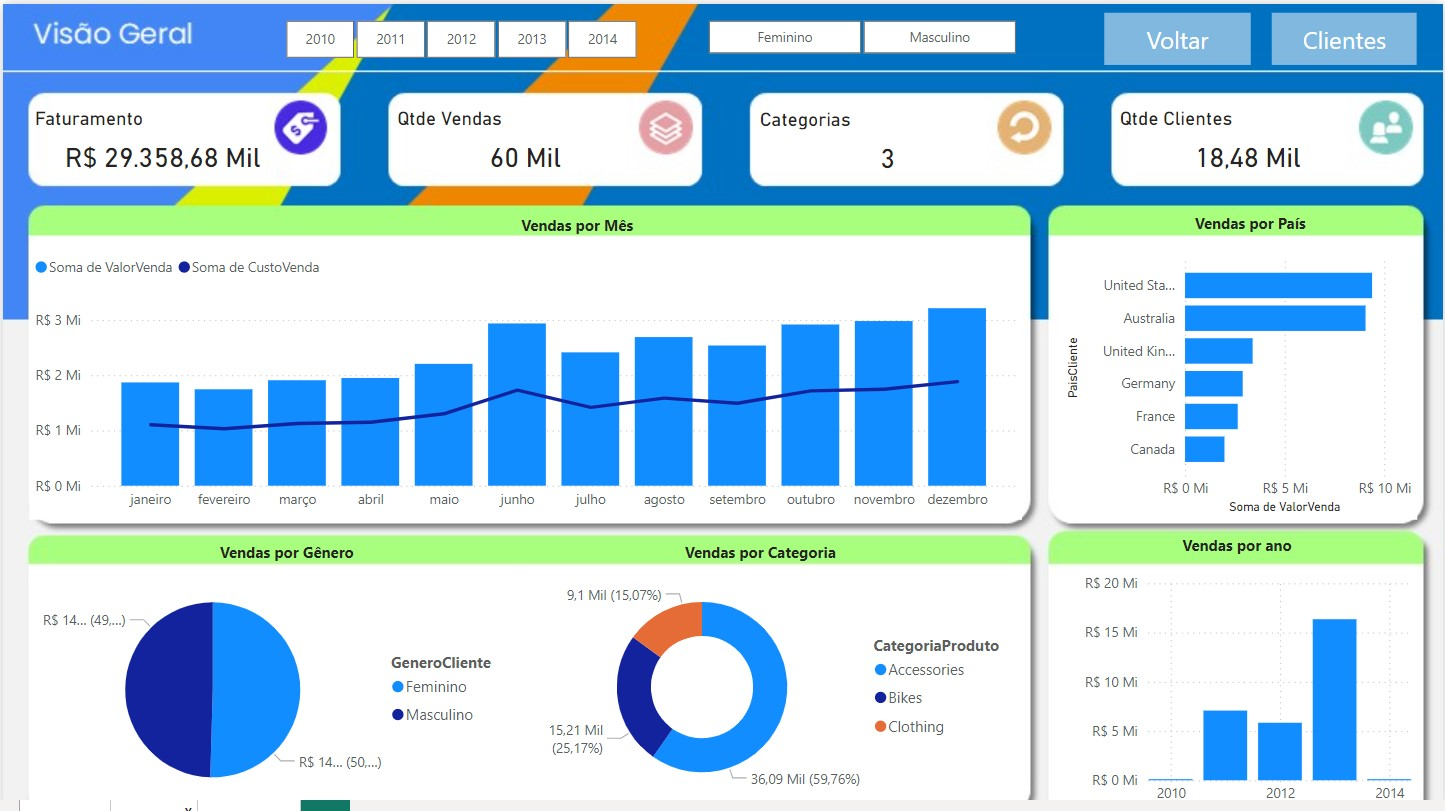

The page's visual inventory and layout, read from the dashboard file:
{"tool":"powerbi","page":{"name":"Geral","canvas":[1280,720],"ordinal":1},"visuals":[{"type":"lineClusteredColumnComboChart","fields":{"Y2":["Sum(vw_AnaliseVendas.CustoVenda)"],"Category":["vw_AnaliseVendas.DataPedido.Variation.Hierarquia de datas.Mês"],"Y":["Sum(vw_AnaliseVendas.ValorVenda)"]},"box":[23.3,214.8,882.5,243.9],"z":0},{"type":"pieChart","fields":{"Category":["vw_AnaliseVendas.GeneroCliente"],"Y":["Sum(vw_AnaliseVendas.ValorVenda)"]},"box":[23.3,500.5,432.5,219.7],"z":1000},{"type":"donutChart","fields":{"Category":["vw_AnaliseVendas.CategoriaProduto"],"Y":["CountNonNull(vw_AnaliseVendas.CategoriaProduto)"]},"box":[464.6,500.5,441.2,214.8],"z":2000},{"type":"clusteredColumnChart","fields":{"Category":["vw_AnaliseVendas.DataPedido.Variation.Hierarquia de datas.Ano"],"Y":["Sum(vw_AnaliseVendas.ValorVenda)"]},"box":[956.6,501,300.2,219.1],"z":3000},{"type":"barChart","fields":{"Category":["vw_AnaliseVendas.PaisCliente"],"Y":["Sum(vw_AnaliseVendas.ValorVenda)"]},"box":[940.8,214.8,315.9,243.9],"z":4000},{"type":"textbox","box":[455.8,181.7,165.2,41.8],"z":5000},{"type":"textbox","box":[188,473,177,42],"z":6000},{"type":"textbox","box":[601.6,473.3,173,41.8],"z":7000},{"type":"textbox","box":[1043.8,466.5,195.4,34],"z":8000},{"type":"textbox","box":[1054.1,181.5,138,41.5],"z":9000},{"type":"slicer","fields":{"Values":["vw_AnaliseVendas.DataPedido.Variation.Hierarquia de datas.Ano"]},"box":[226,7.8,361.8,46.8],"z":10000},{"type":"actionButton","box":[1127.6,7.8,129.1,46.8],"z":11000},{"type":"actionButton","box":[978.5,7.8,130.2,46.8],"z":12000},{"type":"card","title":"Faturamento","fields":{"Values":["Sum(vw_AnaliseVendas.ValorVenda)"]},"box":[23.1,91.1,237.8,69.3],"z":13000},{"type":"card","title":"Qtde Vendas","fields":{"Values":["Sum(vw_AnaliseVendas.QuantidadeVendida)"]},"box":[345.2,91.1,237.8,69.3],"z":14000},{"type":"card","title":"Categorias","fields":{"Values":["Count(vw_AnaliseVendas.CategoriaProduto)"]},"box":[667.3,92.4,237.8,69.3],"z":15000},{"type":"card","title":"Qtde Clientes","fields":{"Values":["Count(vw_AnaliseVendas.IDCliente)"]},"box":[988.1,91.1,237.8,69.3],"z":16000},{"type":"slicer","fields":{"Values":["vw_AnaliseVendas.GeneroCliente"]},"box":[601.2,8.1,323.3,43],"z":16001}]}

Visuals, with their boxes in screenshot pixels (x1, y1, x2, y2), scaled from the page's 1280x720 canvas onto the 1445x811 screenshot:
lineClusteredColumnComboChart - Sum(vw_AnaliseVendas.CustoVenda) x vw_AnaliseVendas.DataPedido.Variation.Hierarquia de datas.Mês: (x1=26, y1=242, x2=1023, y2=517)
pieChart - vw_AnaliseVendas.GeneroCliente x Sum(vw_AnaliseVendas.ValorVenda): (x1=26, y1=564, x2=515, y2=810)
donutChart - vw_AnaliseVendas.CategoriaProduto x CountNonNull(vw_AnaliseVendas.CategoriaProduto): (x1=524, y1=564, x2=1023, y2=806)
clusteredColumnChart - vw_AnaliseVendas.DataPedido.Variation.Hierarquia de datas.Ano x Sum(vw_AnaliseVendas.ValorVenda): (x1=1080, y1=564, x2=1419, y2=810)
barChart - vw_AnaliseVendas.PaisCliente x Sum(vw_AnaliseVendas.ValorVenda): (x1=1062, y1=242, x2=1419, y2=517)
textbox: (x1=515, y1=205, x2=701, y2=252)
textbox: (x1=212, y1=533, x2=412, y2=580)
textbox: (x1=679, y1=533, x2=874, y2=580)
textbox: (x1=1178, y1=525, x2=1399, y2=564)
textbox: (x1=1190, y1=204, x2=1346, y2=251)
slicer - vw_AnaliseVendas.DataPedido.Variation.Hierarquia de datas.Ano: (x1=255, y1=9, x2=664, y2=62)
actionButton: (x1=1273, y1=9, x2=1419, y2=62)
actionButton: (x1=1105, y1=9, x2=1252, y2=62)
"Faturamento" card: (x1=26, y1=103, x2=295, y2=181)
"Qtde Vendas" card: (x1=390, y1=103, x2=658, y2=181)
"Categorias" card: (x1=753, y1=104, x2=1022, y2=182)
"Qtde Clientes" card: (x1=1115, y1=103, x2=1384, y2=181)
slicer - vw_AnaliseVendas.GeneroCliente: (x1=679, y1=9, x2=1044, y2=58)
